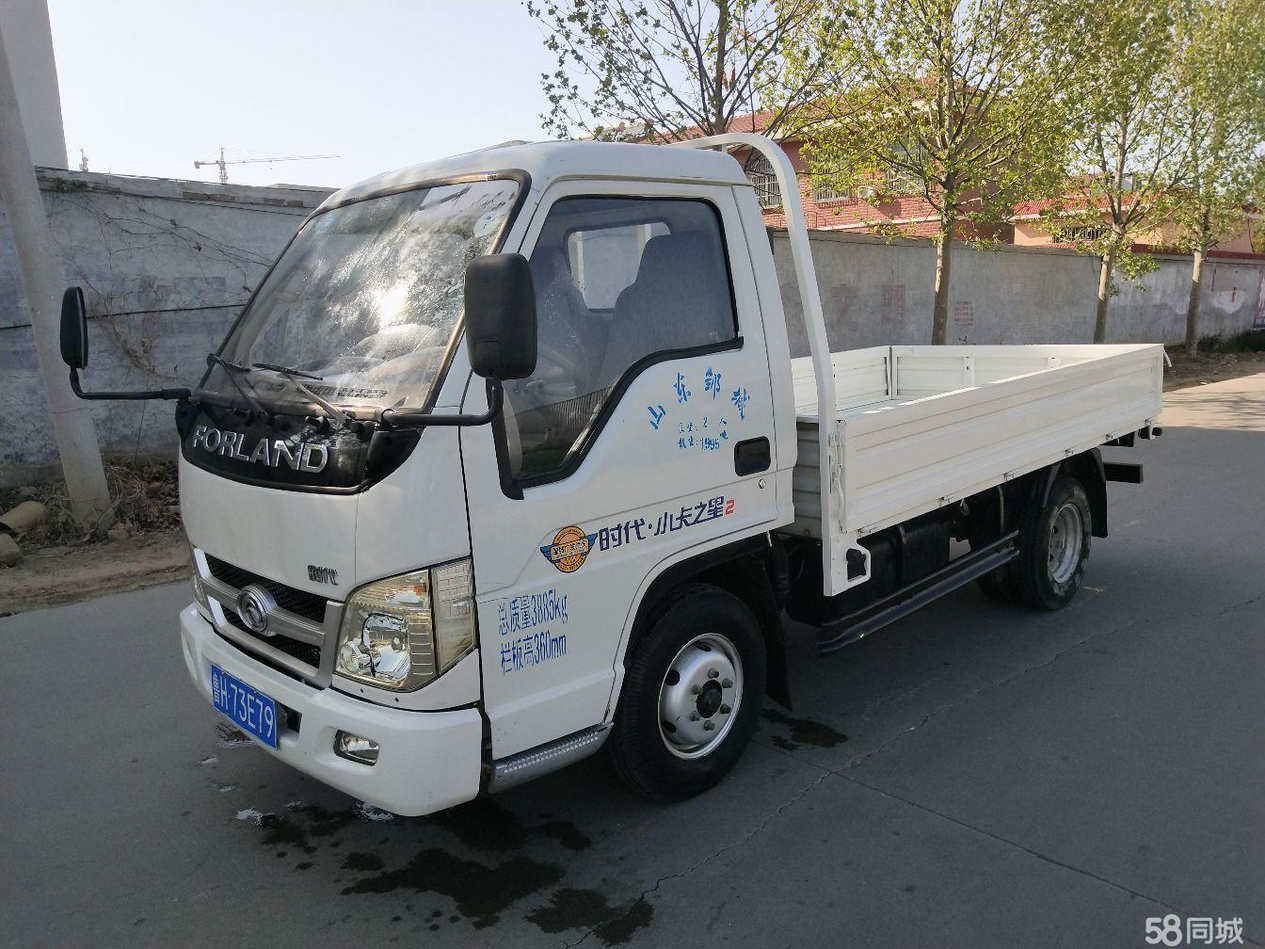smalltruck: (60, 86, 1168, 818)
